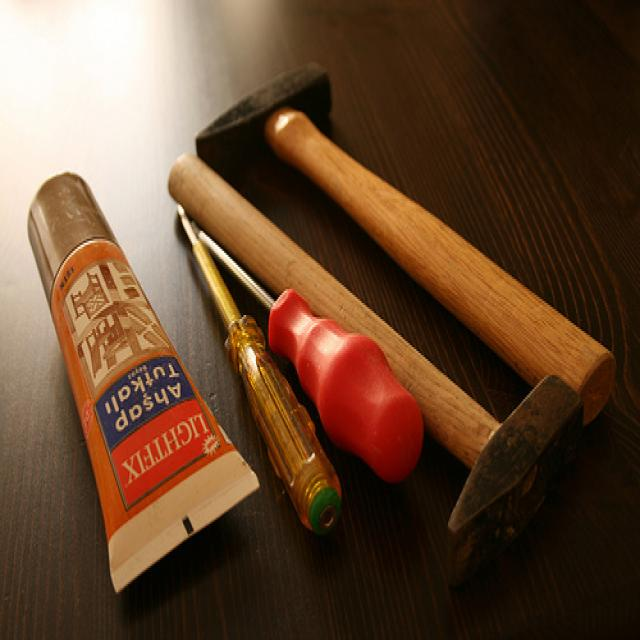hammer: (169, 155, 581, 585), (196, 65, 615, 422)
screw_driver: (194, 228, 424, 481), (178, 206, 341, 534)
